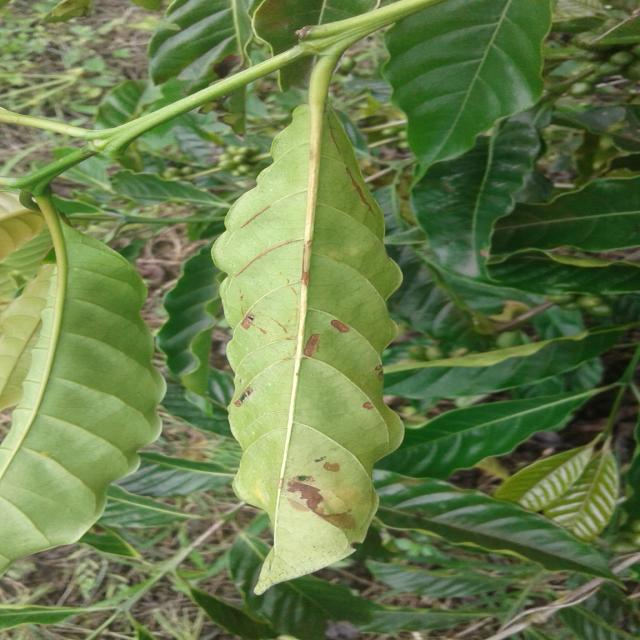Plaga-AranaRoja: (212, 53, 404, 594)
